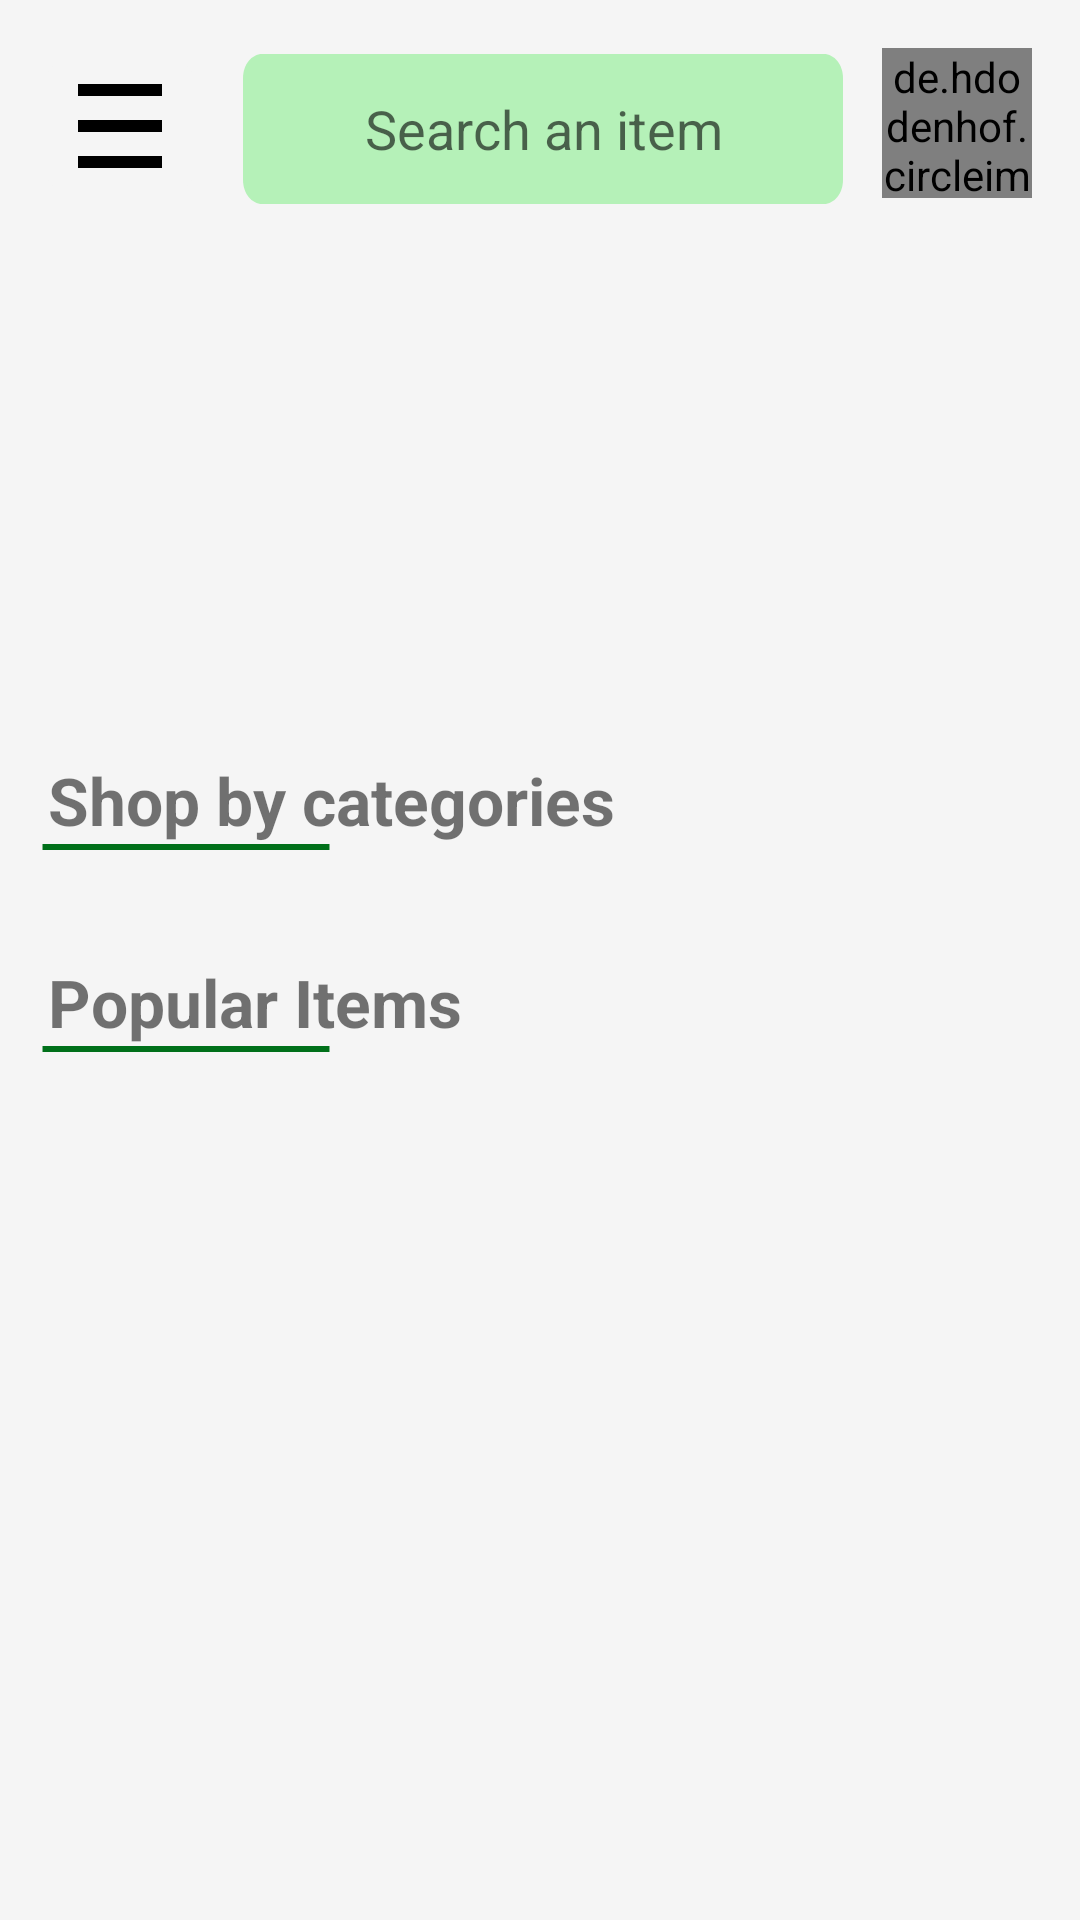

Named icons in this screenshot (1080x1920) and their bounding boxes, (x1, y1, x2, y2):
hamburger: (78, 84, 162, 168)
